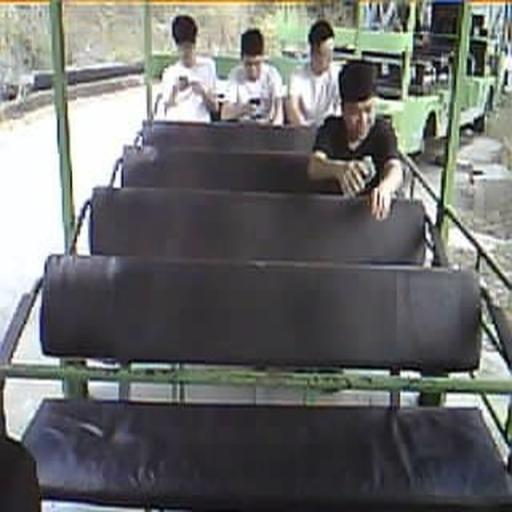persona: (308, 60, 404, 222), (154, 14, 219, 123), (288, 19, 346, 128), (220, 28, 284, 126)
